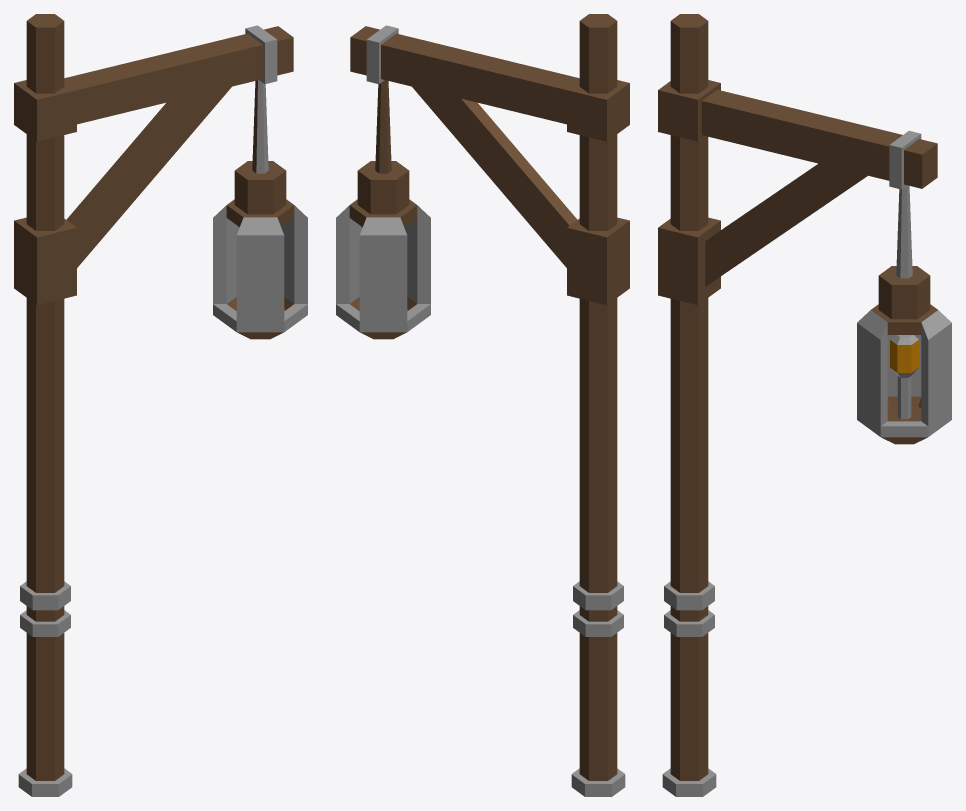
File: lamp_stolb_1.fbx
3 views of the same model, side by side, from view 1: azimuth 30°, elevation 25°; view 2: azimuth 150°, elevation 25°; view 3: azimuth 330°, elevation 25° (orthographic).
Visible parts, largest first — view 1: Cylinder; view 2: Cylinder; view 3: Cylinder.
Boxes of the visible parts, left/top/right/bottom form: Cylinder: left=14, top=14, right=307, bottom=796; Cylinder: left=336, top=14, right=629, bottom=796; Cylinder: left=658, top=14, right=951, bottom=796.
Bounding box in the file's own units: 141 × 381 × 42.79.
